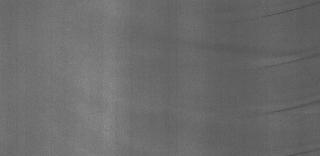scratches: (236, 0, 320, 26), (240, 95, 320, 122), (238, 54, 320, 74)
